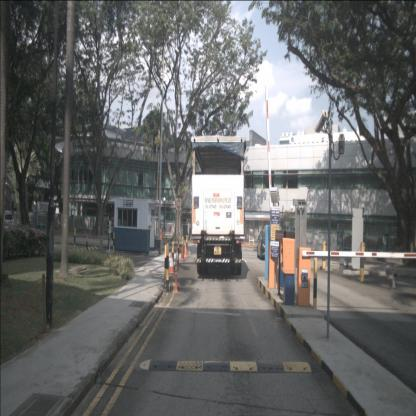cone: (168, 252, 176, 274), (174, 248, 181, 267), (180, 244, 186, 262), (184, 244, 188, 258)
